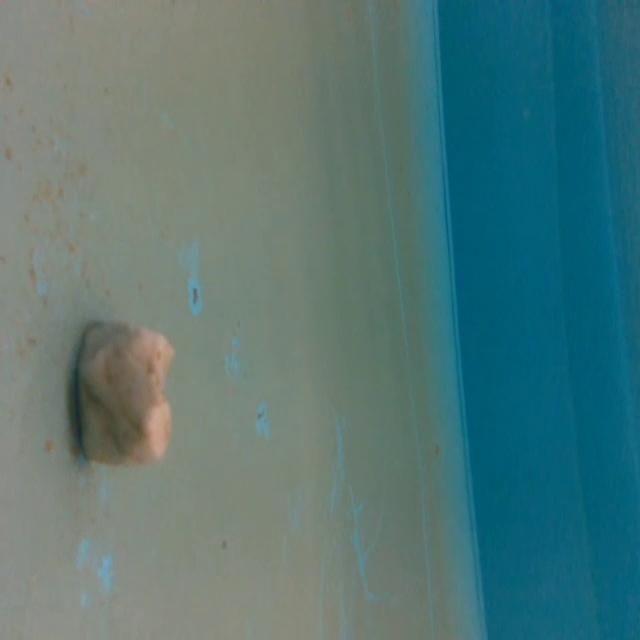rock: (71, 313, 175, 475)
